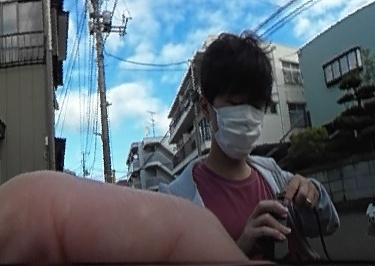person: (178, 34, 326, 266)
